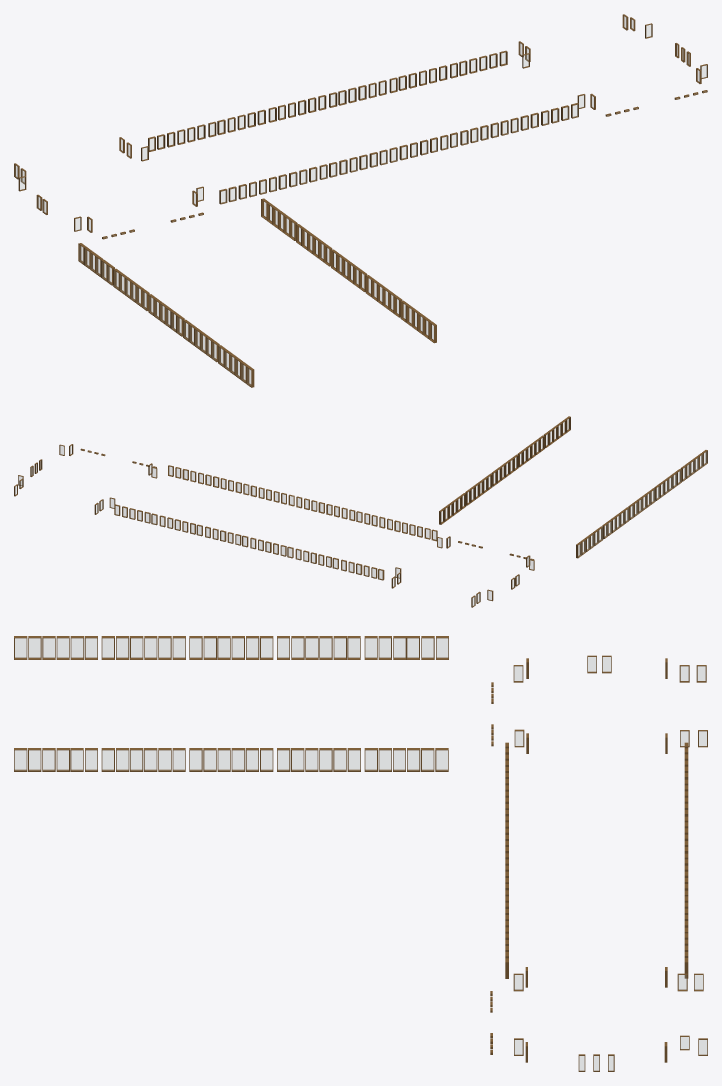
File: insaat_revit.ifc.ifc.ifc.ifc_101.0 Ulaştırma + Lab_IfcWindow.dae
3 renders of one model, top to bottom at view 1: azimuth 30°, elevation 25°; view 2: azimuth 150°, elevation 25°; view 3: azimuth 270°, elevation 25°, orthographic. The views are drawn at different scales.
Size of the model in its own units: 79.16 by 57.01 by 2.59.
